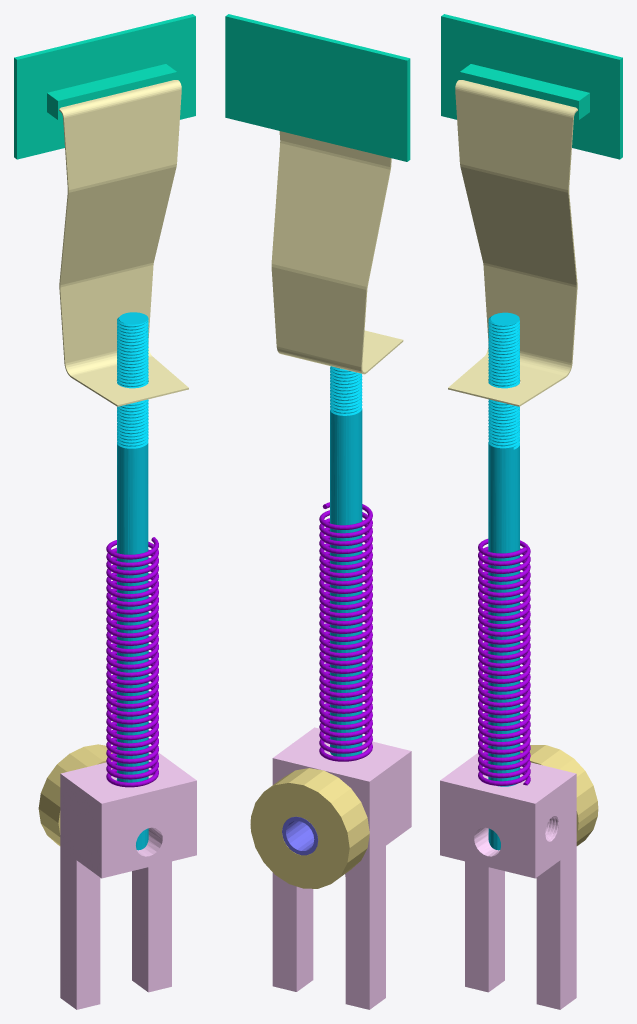
Rendered from valve_subassembly.glb.
3 renders of one model, left to right at view 1: azimuth 30°, elevation 25°; view 2: azimuth 150°, elevation 25°; view 3: azimuth 330°, elevation 25°, orthographic.
Parts seen in each view (by area): view 1: Node1; view 2: Node1; view 3: Node1.
Part boxes in pixels (bbox=[...]): Node1: bbox=[14, 14, 196, 1009]; Node1: bbox=[225, 14, 411, 1009]; Node1: bbox=[440, 14, 622, 1009].
Bounding box in the file's own units: 11.91 × 60.3 × 7.61.
